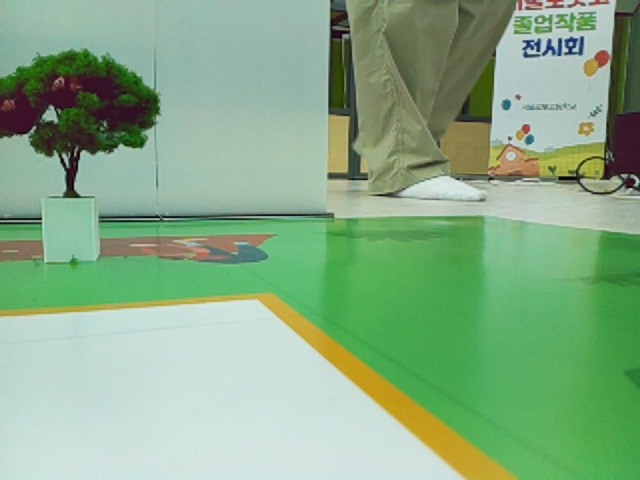apple: (595, 51, 608, 66)
